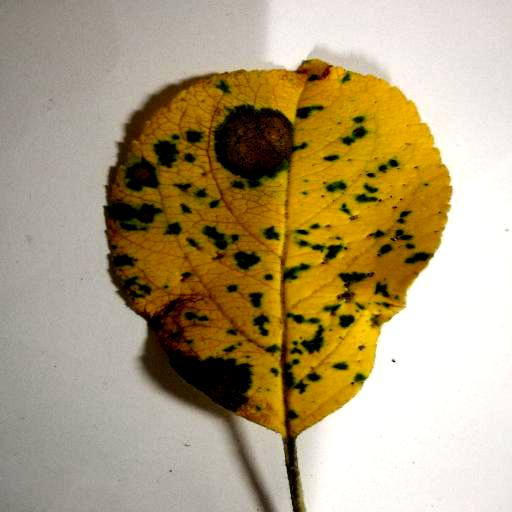Brown_Spot: (210, 105, 293, 183), (177, 357, 252, 419), (146, 286, 198, 328), (106, 200, 163, 224), (135, 163, 154, 183)
